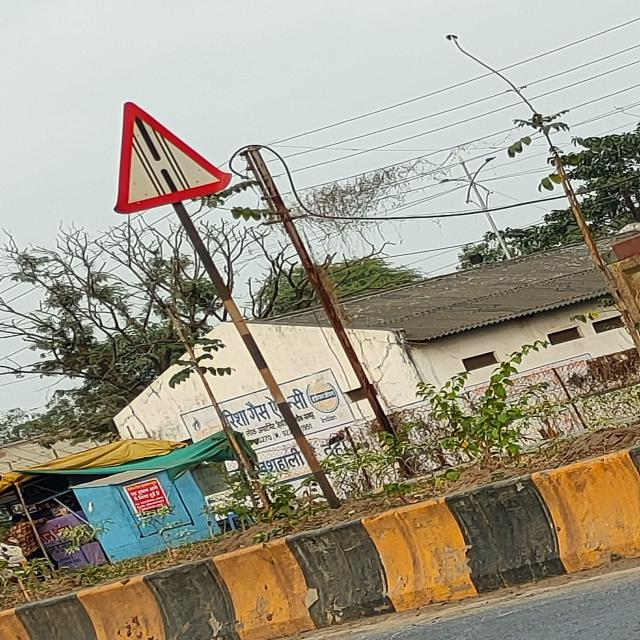GAP_IN_MEDIAN: (111, 104, 234, 212)
